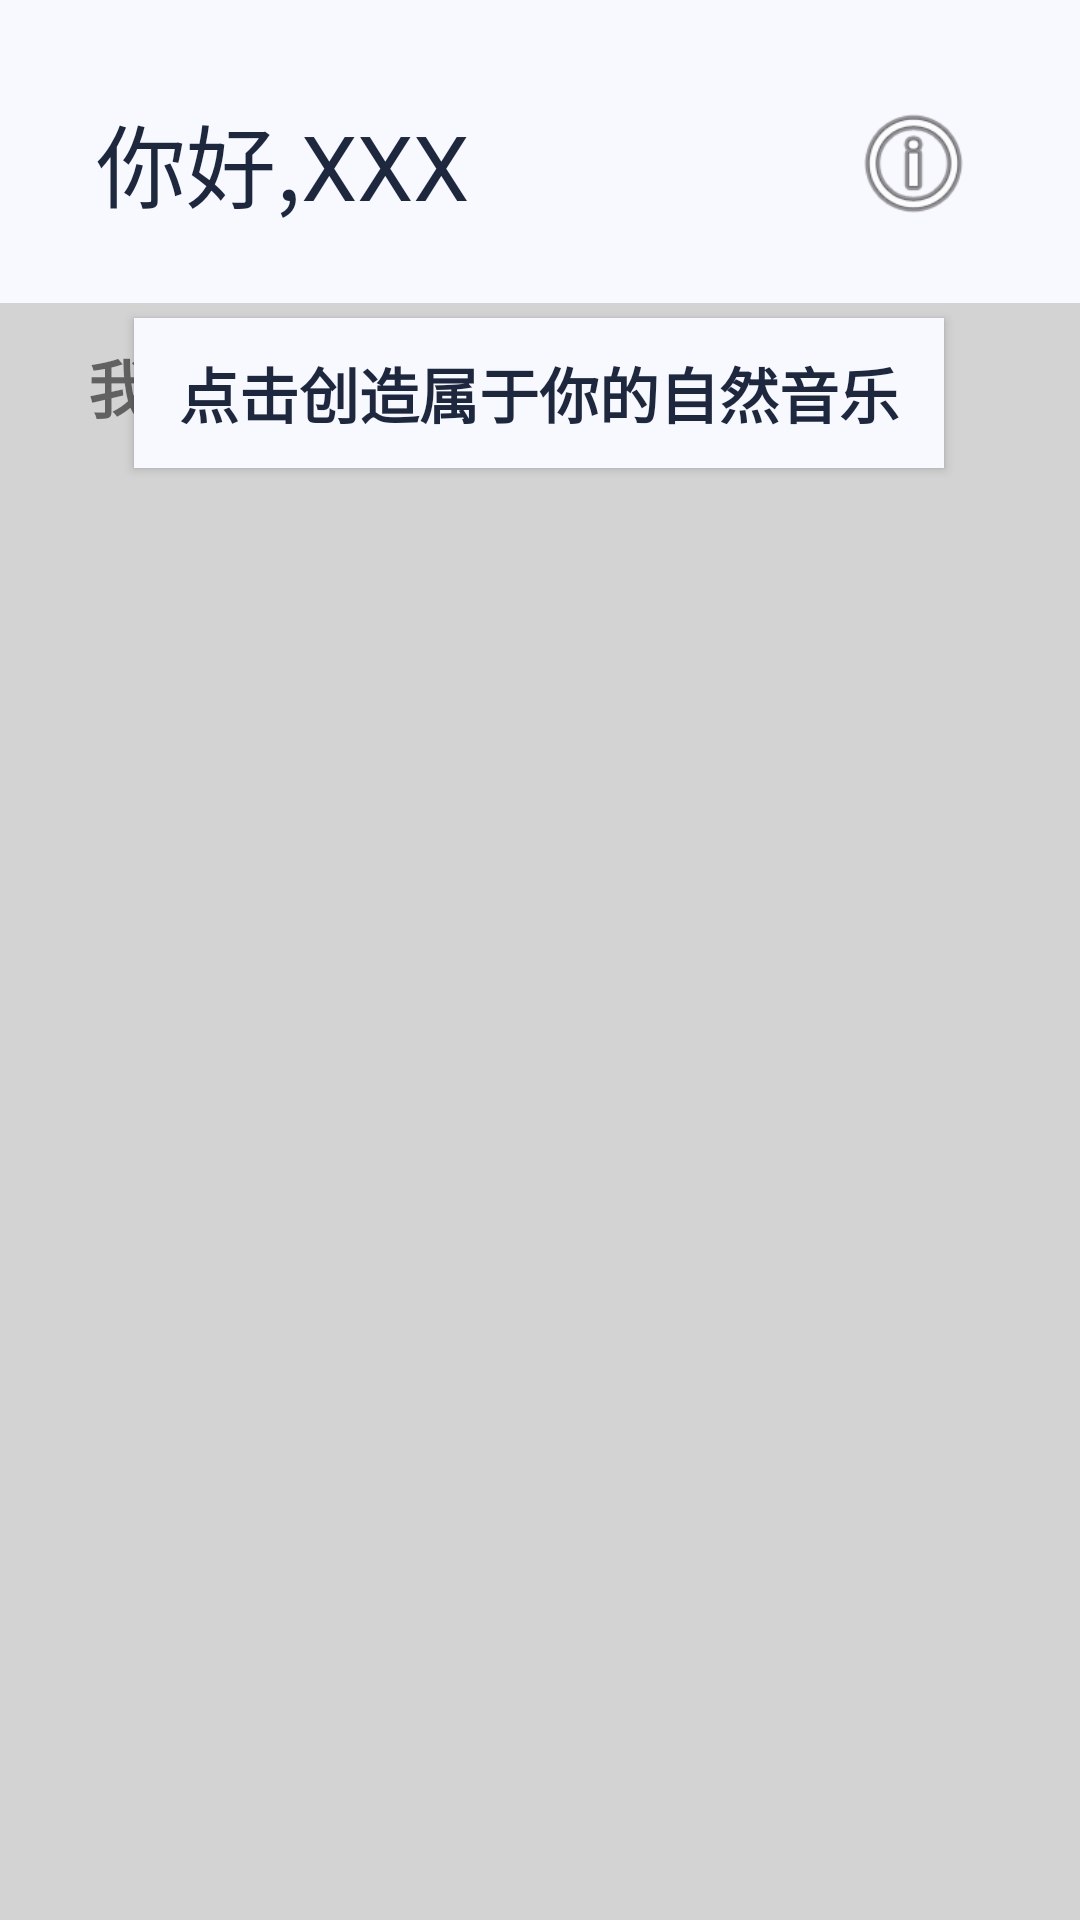

Icon click points for this 1080w x 1920h phone screenshot, format (x,y):
info details: (913,163)
